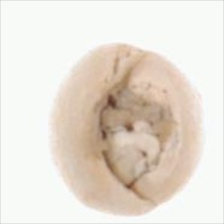L3: (92, 75, 166, 193)
L4: (50, 43, 203, 217)
